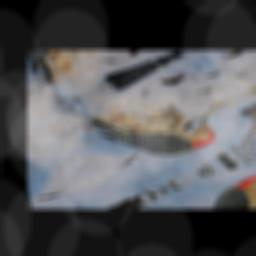Woodpecker: (83, 82, 229, 175)
